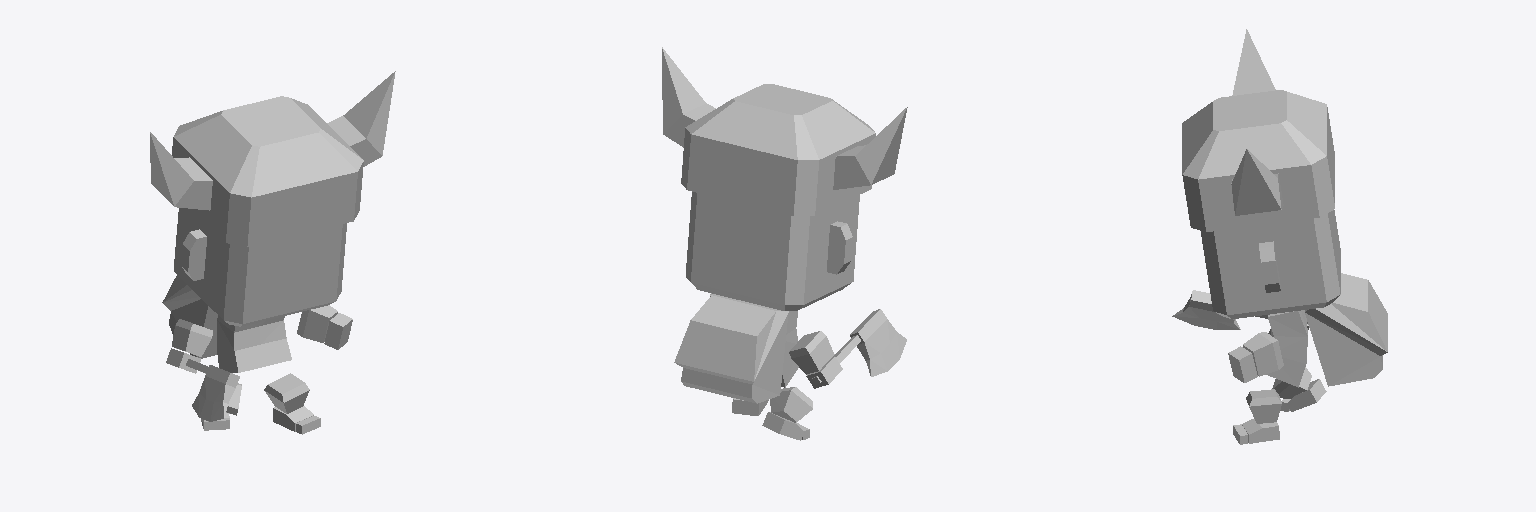
File: mini_knight_000022.obj
3 views of the same model, side by side, from view 1: azimuth 30°, elevation 25°; view 2: azimuth 150°, elevation 25°; view 3: azimuth 270°, elevation 25° (orthographic).
Parts seen in each view (by area): view 1: cap_Object01_Material__3, Mesh_objheadusOBJexport_Material, back_Object03_Material__3, axe_Object02_Material__3; view 2: cap_Object01_Material__3, Mesh_objheadusOBJexport_Material, back_Object03_Material__3, axe_Object02_Material__3; view 3: cap_Object01_Material__3, Mesh_objheadusOBJexport_Material, back_Object03_Material__3, axe_Object02_Material__3.
Boxes of the visible parts, x1=… form: cap_Object01_Material__3: x1=150, y1=71, x2=395, y2=246; Mesh_objheadusOBJexport_Material: x1=166, y1=208, x2=352, y2=434; back_Object03_Material__3: x1=162, y1=275, x2=217, y2=358; axe_Object02_Material__3: x1=186, y1=359, x2=239, y2=421; cap_Object01_Material__3: x1=662, y1=47, x2=907, y2=215; Mesh_objheadusOBJexport_Material: x1=686, y1=192, x2=859, y2=440; back_Object03_Material__3: x1=674, y1=294, x2=788, y2=403; axe_Object02_Material__3: x1=812, y1=309, x2=906, y2=384; cap_Object01_Material__3: x1=1182, y1=29, x2=1334, y2=231; Mesh_objheadusOBJexport_Material: x1=1201, y1=210, x2=1340, y2=444; back_Object03_Material__3: x1=1305, y1=273, x2=1387, y2=386; axe_Object02_Material__3: x1=1172, y1=290, x2=1267, y2=329.
Size of the model in its own units: 1.94 by 2.52 by 1.47.